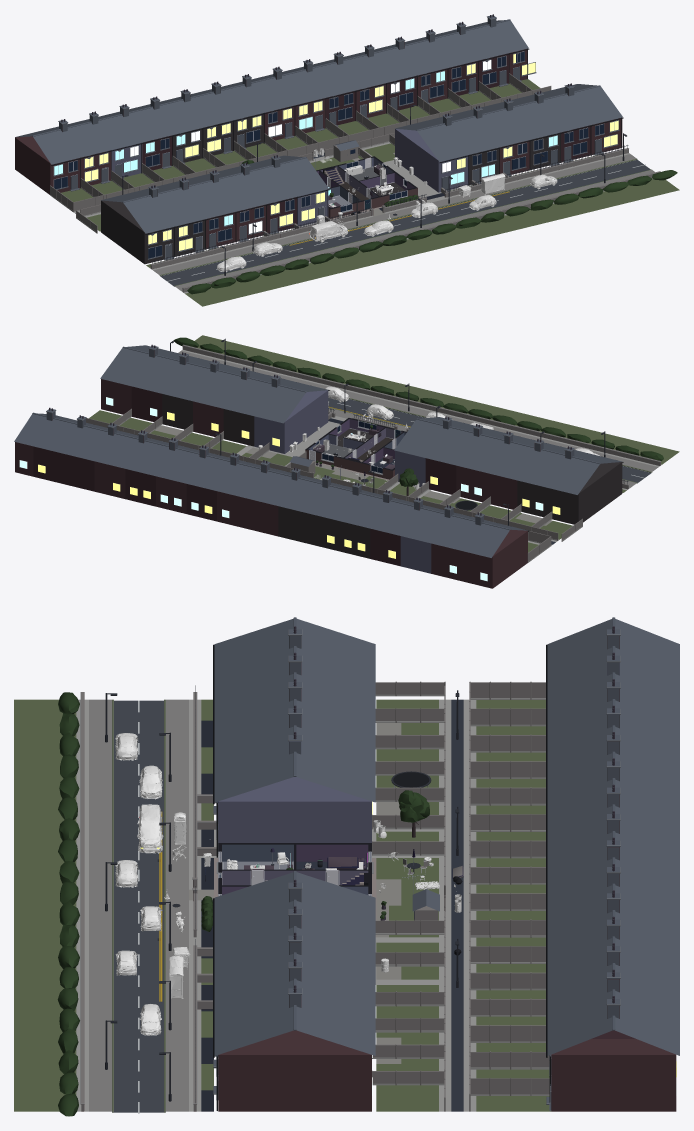
File: level.glb
The picture shows the model from 3 angles, top to bottom: view 1: azimuth 30°, elevation 25°; view 2: azimuth 150°, elevation 25°; view 3: azimuth 270°, elevation 25°; orthographic projection. The views are drawn at different scales.
Parts seen in each view (by area): view 1: static, lit_windows; view 2: static, lit_windows, caps; view 3: static, caps.
Boxes of the visible parts, <box> form: static: <box>15,14,679,306</box>; lit_windows: <box>54,54,618,250</box>; static: <box>14,335,679,588</box>; lit_windows: <box>19,397,560,581</box>; caps: <box>305,418,406,470</box>; static: <box>14,617,679,1116</box>; caps: <box>218,843,371,893</box>.
Size of the model in its own units: 80.76 by 8.82 by 53.3.
